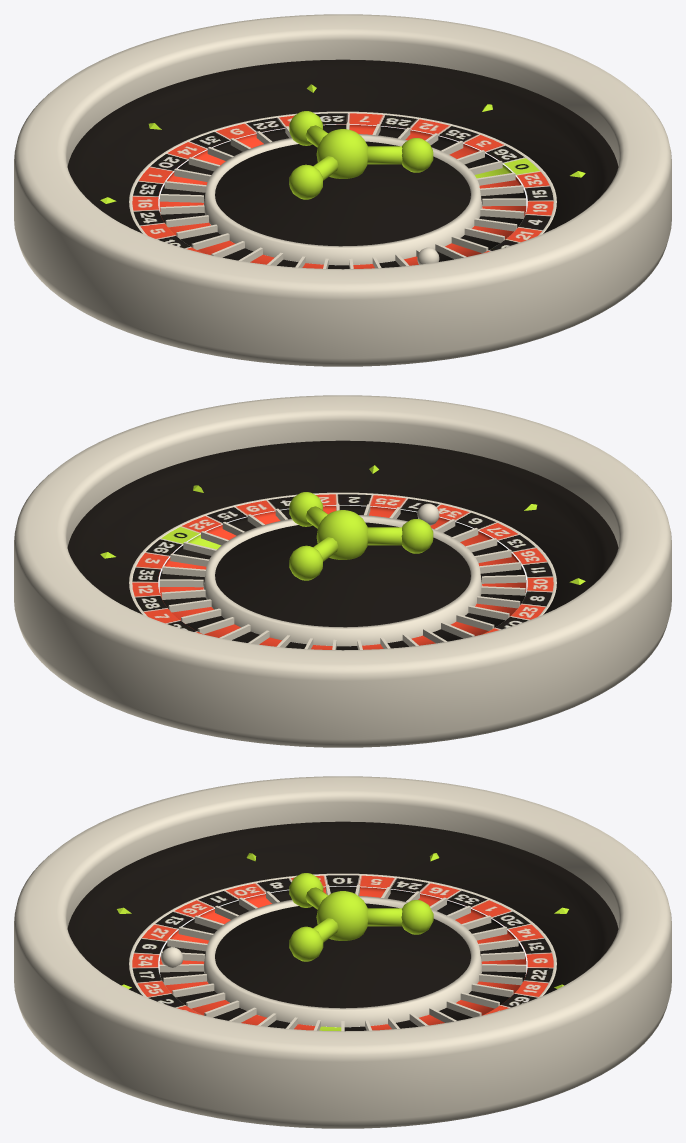
File: ruleta.glb
3 renders of one model, top to bottom at view 1: azimuth 30°, elevation 25°; view 2: azimuth 150°, elevation 25°; view 3: azimuth 270°, elevation 25°, orthographic.
Parts seen in each view (by area): view 1: GEO-ruleta_aro, GEO-ruleta_pista, GEO-ruleta_cono, GEO-ruleta_numeros, GEO-ruleta_trastes, GEO-ruleta_labio, GEO-ruleta_casillas, GEO-ruleta_torreta, GEO-ruleta_borde; view 2: GEO-ruleta_aro, GEO-ruleta_pista, GEO-ruleta_cono, GEO-ruleta_numeros, GEO-ruleta_trastes, GEO-ruleta_labio, GEO-ruleta_casillas, GEO-ruleta_torreta, GEO-ruleta_borde; view 3: GEO-ruleta_aro, GEO-ruleta_pista, GEO-ruleta_cono, GEO-ruleta_numeros, GEO-ruleta_trastes, GEO-ruleta_labio, GEO-ruleta_casillas, GEO-ruleta_torreta, GEO-ruleta_borde.
Boxes of the visible parts, x1=… form: GEO-ruleta_aro: x1=14, y1=14, x2=671, y2=366; GEO-ruleta_pista: x1=67, y1=59, x2=618, y2=233; GEO-ruleta_cono: x1=215, y1=141, x2=470, y2=246; GEO-ruleta_numeros: x1=132, y1=113, x2=553, y2=253; GEO-ruleta_trastes: x1=160, y1=122, x2=526, y2=268; GEO-ruleta_labio: x1=204, y1=134, x2=482, y2=265; GEO-ruleta_casillas: x1=159, y1=124, x2=526, y2=269; GEO-ruleta_torreta: x1=289, y1=111, x2=433, y2=199; GEO-ruleta_borde: x1=129, y1=111, x2=556, y2=235; GEO-ruleta_aro: x1=14, y1=395, x2=671, y2=747; GEO-ruleta_pista: x1=67, y1=440, x2=618, y2=614; GEO-ruleta_cono: x1=215, y1=522, x2=470, y2=627; GEO-ruleta_numeros: x1=132, y1=494, x2=553, y2=634; GEO-ruleta_trastes: x1=159, y1=503, x2=525, y2=649; GEO-ruleta_labio: x1=203, y1=515, x2=481, y2=646; GEO-ruleta_casillas: x1=159, y1=505, x2=526, y2=650; GEO-ruleta_torreta: x1=289, y1=492, x2=433, y2=580; GEO-ruleta_borde: x1=129, y1=492, x2=556, y2=616; GEO-ruleta_aro: x1=14, y1=776, x2=671, y2=1128; GEO-ruleta_pista: x1=67, y1=821, x2=618, y2=995; GEO-ruleta_cono: x1=215, y1=903, x2=470, y2=1008; GEO-ruleta_numeros: x1=132, y1=875, x2=553, y2=1015; GEO-ruleta_trastes: x1=159, y1=884, x2=526, y2=1031; GEO-ruleta_labio: x1=204, y1=896, x2=481, y2=1027; GEO-ruleta_casillas: x1=159, y1=886, x2=526, y2=1031; GEO-ruleta_torreta: x1=289, y1=873, x2=433, y2=961; GEO-ruleta_borde: x1=129, y1=873, x2=556, y2=997.
Size of the model in its own units: 0.94 by 0.159 by 0.94.
Materials: 5 (1 with a texture image).
